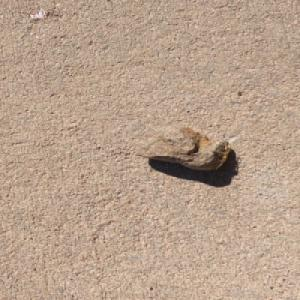Rock: (133, 124, 231, 171)
